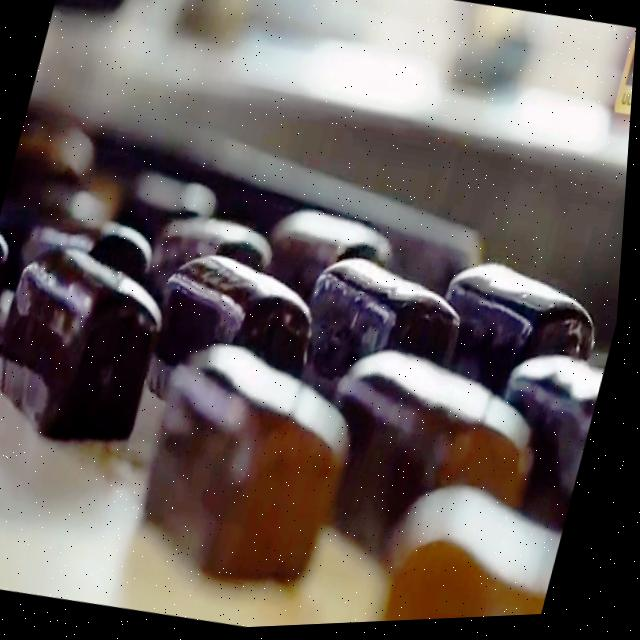Choco: (127, 327, 381, 603), (309, 327, 570, 576), (0, 229, 185, 457), (138, 233, 337, 436), (421, 235, 627, 428), (295, 242, 486, 423), (481, 344, 614, 531)
